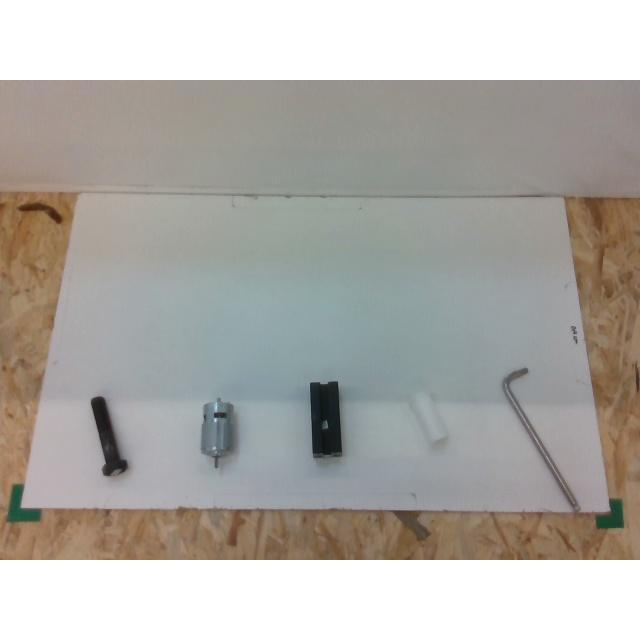AllenKey: (502, 368, 578, 508)
M20_100: (92, 396, 128, 474)
Motor2: (200, 398, 234, 466)
S40_40_B: (310, 380, 342, 456)
Spacer: (408, 391, 448, 442)
